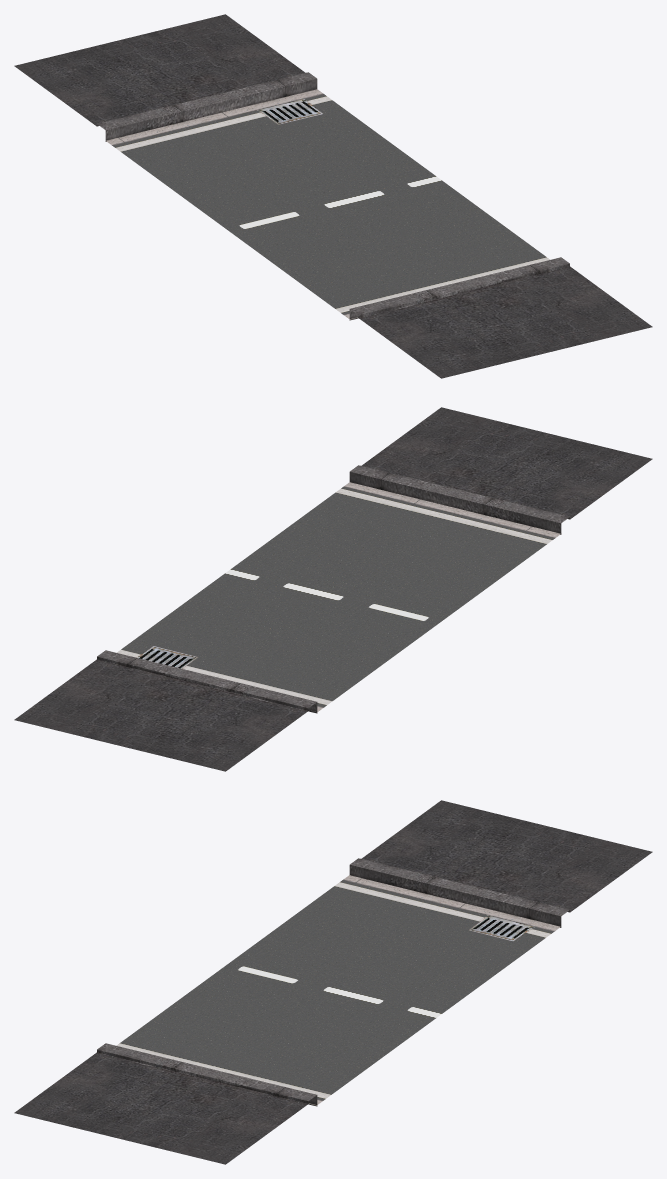
File: 2 lines (half).FBX
3 renders of one model, top to bottom at view 1: azimuth 30°, elevation 25°; view 2: azimuth 150°, elevation 25°; view 3: azimuth 330°, elevation 25°, orthographic.
Visible parts, largest first — view 1: Plane238; view 2: Plane238; view 3: Plane238.
Part boxes in pixels (x1,y1,x2,y2): Plane238: [14, 14, 652, 378]; Plane238: [14, 407, 652, 771]; Plane238: [14, 800, 652, 1164].
Size of the model in its own units: 6 by 0.3184 by 20.97.
